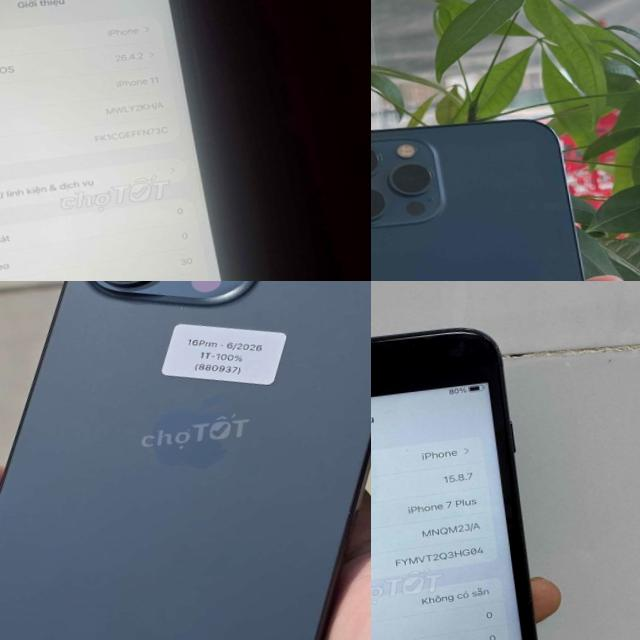gen_11: (0, 0, 267, 281)
gen_12_13: (371, 100, 631, 281)
gen_16: (0, 281, 371, 640)
gen_7_8: (371, 319, 577, 640)
